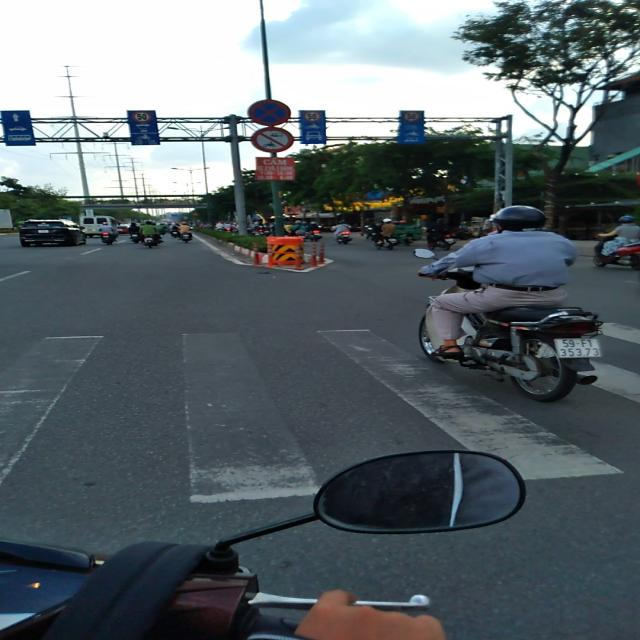Cam con lai: (248, 127, 296, 154)
Cam dung va do: (247, 99, 291, 126)
Toc do toi da: (302, 110, 322, 122), (132, 111, 152, 123), (402, 111, 421, 122)
